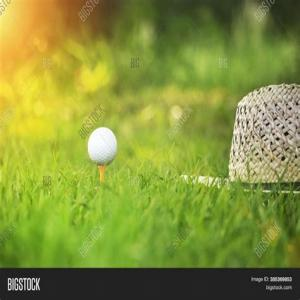Golf: (88, 124, 118, 169)
